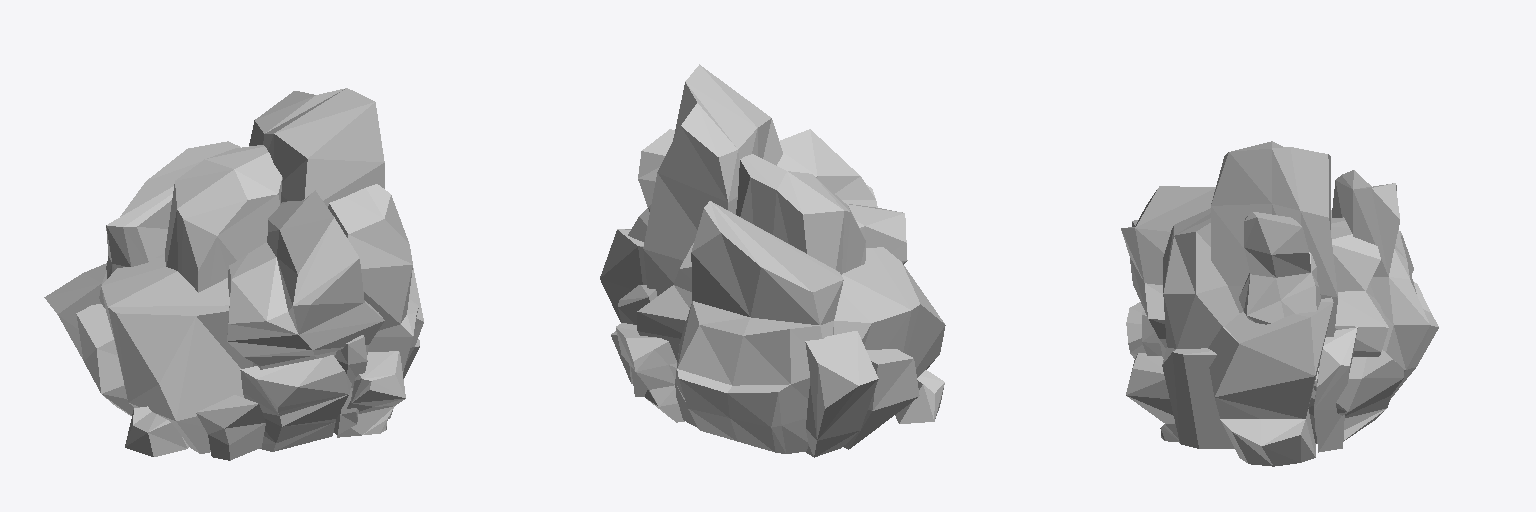
File: Main_Cube (2).obj
The picture shows the model from 3 angles: view 1: azimuth 30°, elevation 25°; view 2: azimuth 150°, elevation 25°; view 3: azimuth 270°, elevation 25°; orthographic projection.
Parts seen in each view (by area): view 1: Cube_main; view 2: Cube_main; view 3: Cube_main.
Boxes of the visible parts, x1=… form: Cube_main: x1=44, y1=88, x2=423, y2=460; Cube_main: x1=600, y1=64, x2=945, y2=457; Cube_main: x1=1121, y1=141, x2=1438, y2=466.
Bounding box in the file's own units: 2.17 × 2.02 × 1.94.